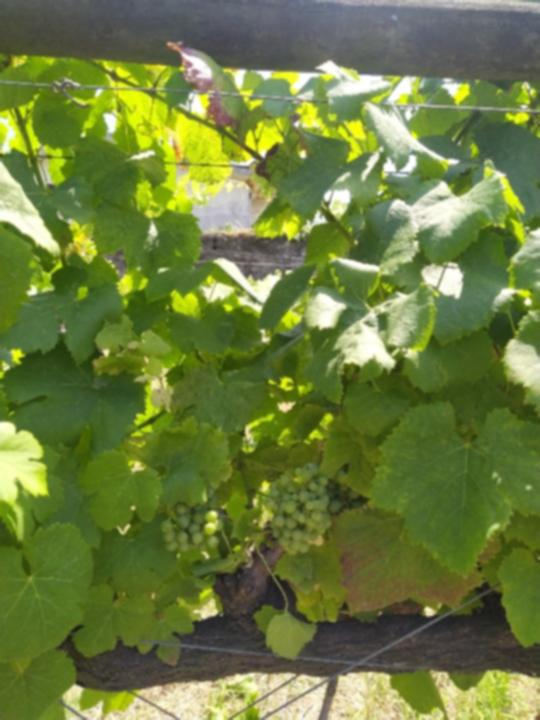grape: (259, 458, 362, 559), (157, 496, 228, 559)
